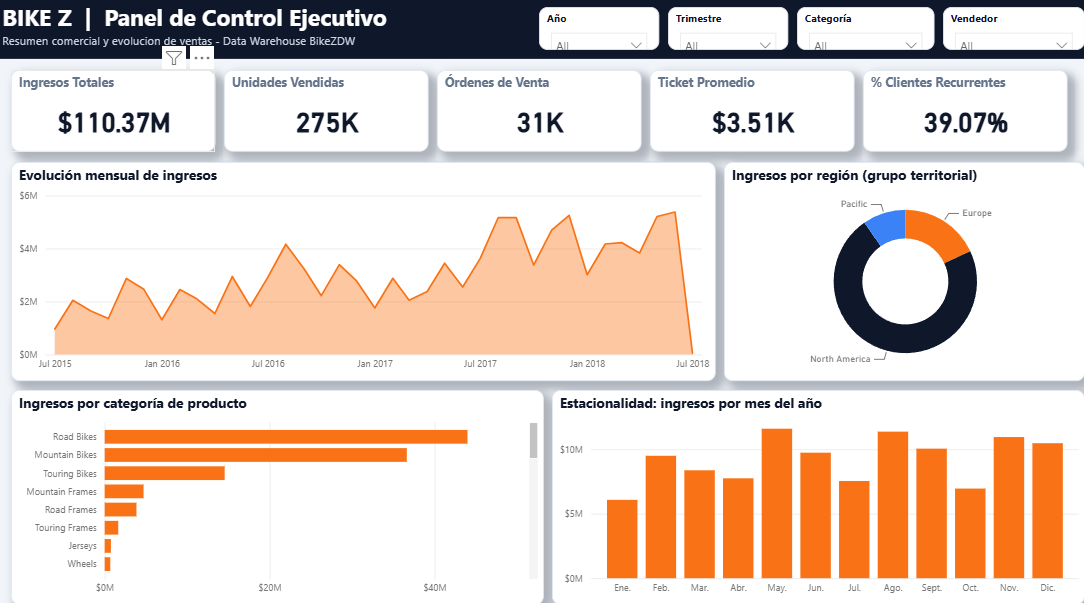

The dashboard page shown, as its layout file describes it:
{"tool":"powerbi","page":{"name":"Resumen Comercial","canvas":[1280,720],"ordinal":0},"visuals":[{"type":"textbox","box":[0,0,1280,72],"z":1000},{"type":"slicer","title":"Año","fields":{"Values":["Dim_Tiempo.Anio"]},"box":[630,12,140,50],"z":2000},{"type":"slicer","title":"Trimestre","fields":{"Values":["Dim_Tiempo.TrimestreTxt"]},"box":[780,12,140,50],"z":3000},{"type":"slicer","title":"Categoría","fields":{"Values":["Dim_Producto.Categoria"]},"box":[930,12,160,50],"z":4000},{"type":"slicer","title":"Vendedor","fields":{"Values":["Dim_Empleado.TipoVendedor"]},"box":[1100,12,165,50],"z":5000},{"type":"card","title":"Ingresos Totales","fields":{"Values":["_Medidas.Ingresos por Ventas"]},"box":[15,85,238,95],"z":6000},{"type":"card","title":"Unidades Vendidas","fields":{"Values":["_Medidas.Unidades Vendidas"]},"box":[263,85,238,95],"z":7000},{"type":"card","title":"Órdenes de Venta","fields":{"Values":["_Medidas.Ventas Distintas"]},"box":[511,85,238,95],"z":8000},{"type":"card","title":"Ticket Promedio","fields":{"Values":["_Medidas.Ticket Promedio"]},"box":[759,85,238,95],"z":9000},{"type":"card","title":"% Clientes Recurrentes","fields":{"Values":["_Medidas.% Clientes Recurrentes"]},"box":[1007,85,238,95],"z":10000},{"type":"areaChart","title":"Evolución mensual de ingresos","fields":{"Category":["Dim_Tiempo.Periodo"],"Y":["_Medidas.Ingresos por Ventas"]},"box":[15,192,820,255],"z":11000},{"type":"donutChart","title":"Ingresos por región (grupo territorial)","fields":{"Category":["Dim_Territorio.Grupo"],"Y":["_Medidas.Ingresos por Ventas"]},"box":[845,192,420,255],"z":12000},{"type":"clusteredBarChart","title":"Ingresos por categoría de producto","fields":{"Category":["Dim_Producto.Categoria"],"Y":["_Medidas.Ingresos por Ventas"]},"box":[15,457,620,250],"z":13000},{"type":"clusteredColumnChart","title":"Estacionalidad: ingresos por mes del año","fields":{"Category":["Dim_Tiempo.NombreMes"],"Y":["_Medidas.Ingresos por Ventas"]},"box":[645,457,620,250],"z":14000}]}

Visuals, with their boxes in screenshot pixels (x1, y1, x2, y2), scaled from the page's 1280x720 canvas onto the 1084x603 screenshot:
textbox: bbox=(0, 0, 1083, 60)
"Año" slicer: bbox=(534, 10, 652, 52)
"Trimestre" slicer: bbox=(661, 10, 779, 52)
"Categoría" slicer: bbox=(788, 10, 923, 52)
"Vendedor" slicer: bbox=(932, 10, 1071, 52)
"Ingresos Totales" card: bbox=(13, 71, 214, 151)
"Unidades Vendidas" card: bbox=(223, 71, 424, 151)
"Órdenes de Venta" card: bbox=(433, 71, 634, 151)
"Ticket Promedio" card: bbox=(643, 71, 844, 151)
"% Clientes Recurrentes" card: bbox=(853, 71, 1054, 151)
"Evolución mensual de ingresos" areaChart: bbox=(13, 161, 707, 374)
"Ingresos por región (grupo territorial)" donutChart: bbox=(716, 161, 1071, 374)
"Ingresos por categoría de producto" clusteredBarChart: bbox=(13, 383, 538, 592)
"Estacionalidad: ingresos por mes del año" clusteredColumnChart: bbox=(546, 383, 1071, 592)
